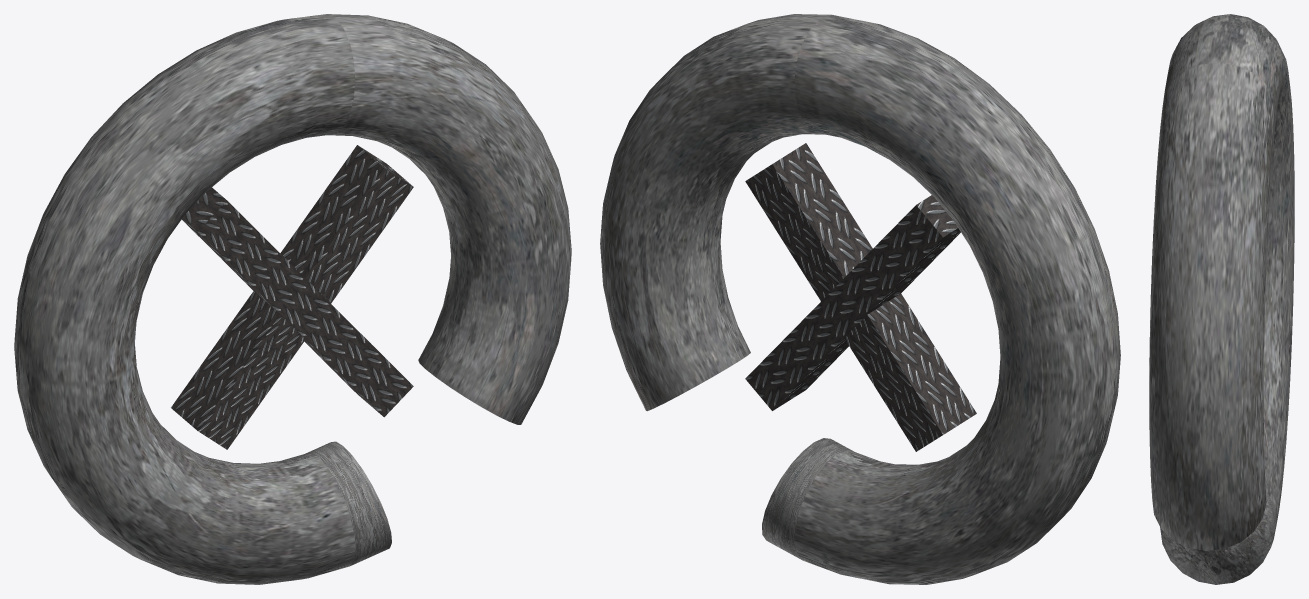
Rendered from QuitButtonv3.fbx.
The picture shows the model from 3 angles, left to right: view 1: azimuth 30°, elevation 25°; view 2: azimuth 150°, elevation 25°; view 3: azimuth 270°, elevation 25°; orthographic projection. The views are drawn at different scales.
Parts seen in each view (by area): view 1: Cube; view 2: Cube; view 3: Cube.
Boxes of the visible parts, bbox=[...] form: Cube: bbox=[14, 14, 571, 584]; Cube: bbox=[600, 14, 1120, 584]; Cube: bbox=[1149, 14, 1294, 584].
Bounding box in the file's own units: 1031 × 1033 × 262.
